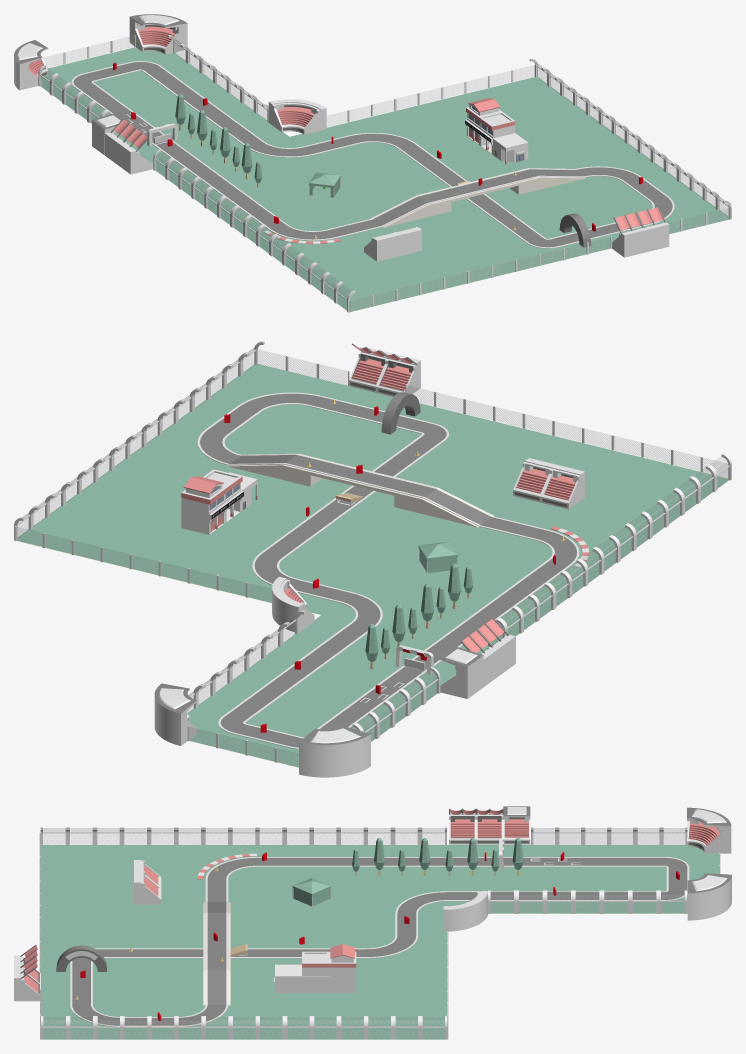
File: map12.glb
3 renders of one model, top to bottom at view 1: azimuth 30°, elevation 25°; view 2: azimuth 150°, elevation 25°; view 3: azimuth 270°, elevation 25°, orthographic. The views are drawn at different scales.
Visible parts, largest first — view 1: grass(Clone).005, grass(Clone).002, fenceCurved(Clone), fenceCurved(Clone).001, grass(Clone).004, fenceStraight(Clone), grandStandCoveredRound(Clone).001, fenceStraight(Clone).001, grass(Clone).003, grass(Clone).001, grandStandRound(Clone), fenceCurved(Clone).002 (+41 smaller); view 2: grass(Clone).005, grass(Clone).002, fenceCurved(Clone), fenceCurved(Clone).001, grass(Clone).001, grass(Clone).004, grandStandCoveredRound(Clone), fenceStraight(Clone), fenceStraight(Clone).001, fenceCurved(Clone).003, grandStandCoveredRound(Clone).001, fenceCurved(Clone).002 (+41 smaller); view 3: grass(Clone).005, grass(Clone).002, fenceCurved(Clone).001, fenceCurved(Clone), grass(Clone).001, fenceCurved(Clone).002, fenceCurved(Clone).003, grass(Clone).004, grandStandCoveredRound(Clone).001, grandStandCoveredRound(Clone), grandStandRound(Clone), grass(Clone).003 (+37 smaller).
Part boxes in pixels (x1,y1,x2,y2): grass(Clone).005: (156,77,729,311); grass(Clone).002: (96,71,348,230); fenceCurved(Clone): (153,149,355,312); fenceCurved(Clone).001: (529,58,731,219); grass(Clone).004: (144,51,289,146); fenceStraight(Clone): (349,236,611,312); grandStandCoveredRound(Clone).001: (129,14,187,54); fenceStraight(Clone).001: (327,65,534,126); grass(Clone).003: (42,47,184,89); grass(Clone).001: (41,70,295,261); grandStandRound(Clone): (268,99,326,134); fenceCurved(Clone).002: (168,35,268,122); grass(Clone).005: (17,364,728,635); grass(Clone).002: (247,534,552,736); fenceCurved(Clone): (488,453,731,647); fenceCurved(Clone).001: (14,341,264,540); grass(Clone).001: (352,534,645,741); grass(Clone).004: (187,604,355,731); grandStandCoveredRound(Clone): (299,725,370,777); fenceStraight(Clone): (405,384,727,477); fenceStraight(Clone).001: (14,526,271,602); fenceCurved(Clone).003: (351,667,440,741); grandStandCoveredRound(Clone).001: (154,683,197,745); fenceCurved(Clone).002: (188,610,305,712); grass(Clone).005: (40,845,446,1039); grass(Clone).002: (228,868,666,890); fenceCurved(Clone).001: (41,1016,447,1039); fenceCurved(Clone): (40,827,446,845); grass(Clone).001: (182,845,718,856); fenceCurved(Clone).002: (488,890,686,913); fenceCurved(Clone).003: (531,827,687,845); grass(Clone).004: (421,902,682,913); grandStandCoveredRound(Clone).001: (687,873,731,920); grandStandCoveredRound(Clone): (687,807,731,853); grandStandRound(Clone): (443,891,487,931); grass(Clone).003: (665,845,719,913).
Size of what is drawn, in the model's own units: 144 by 13.13 by 212.
101 materials, 8 textured.
